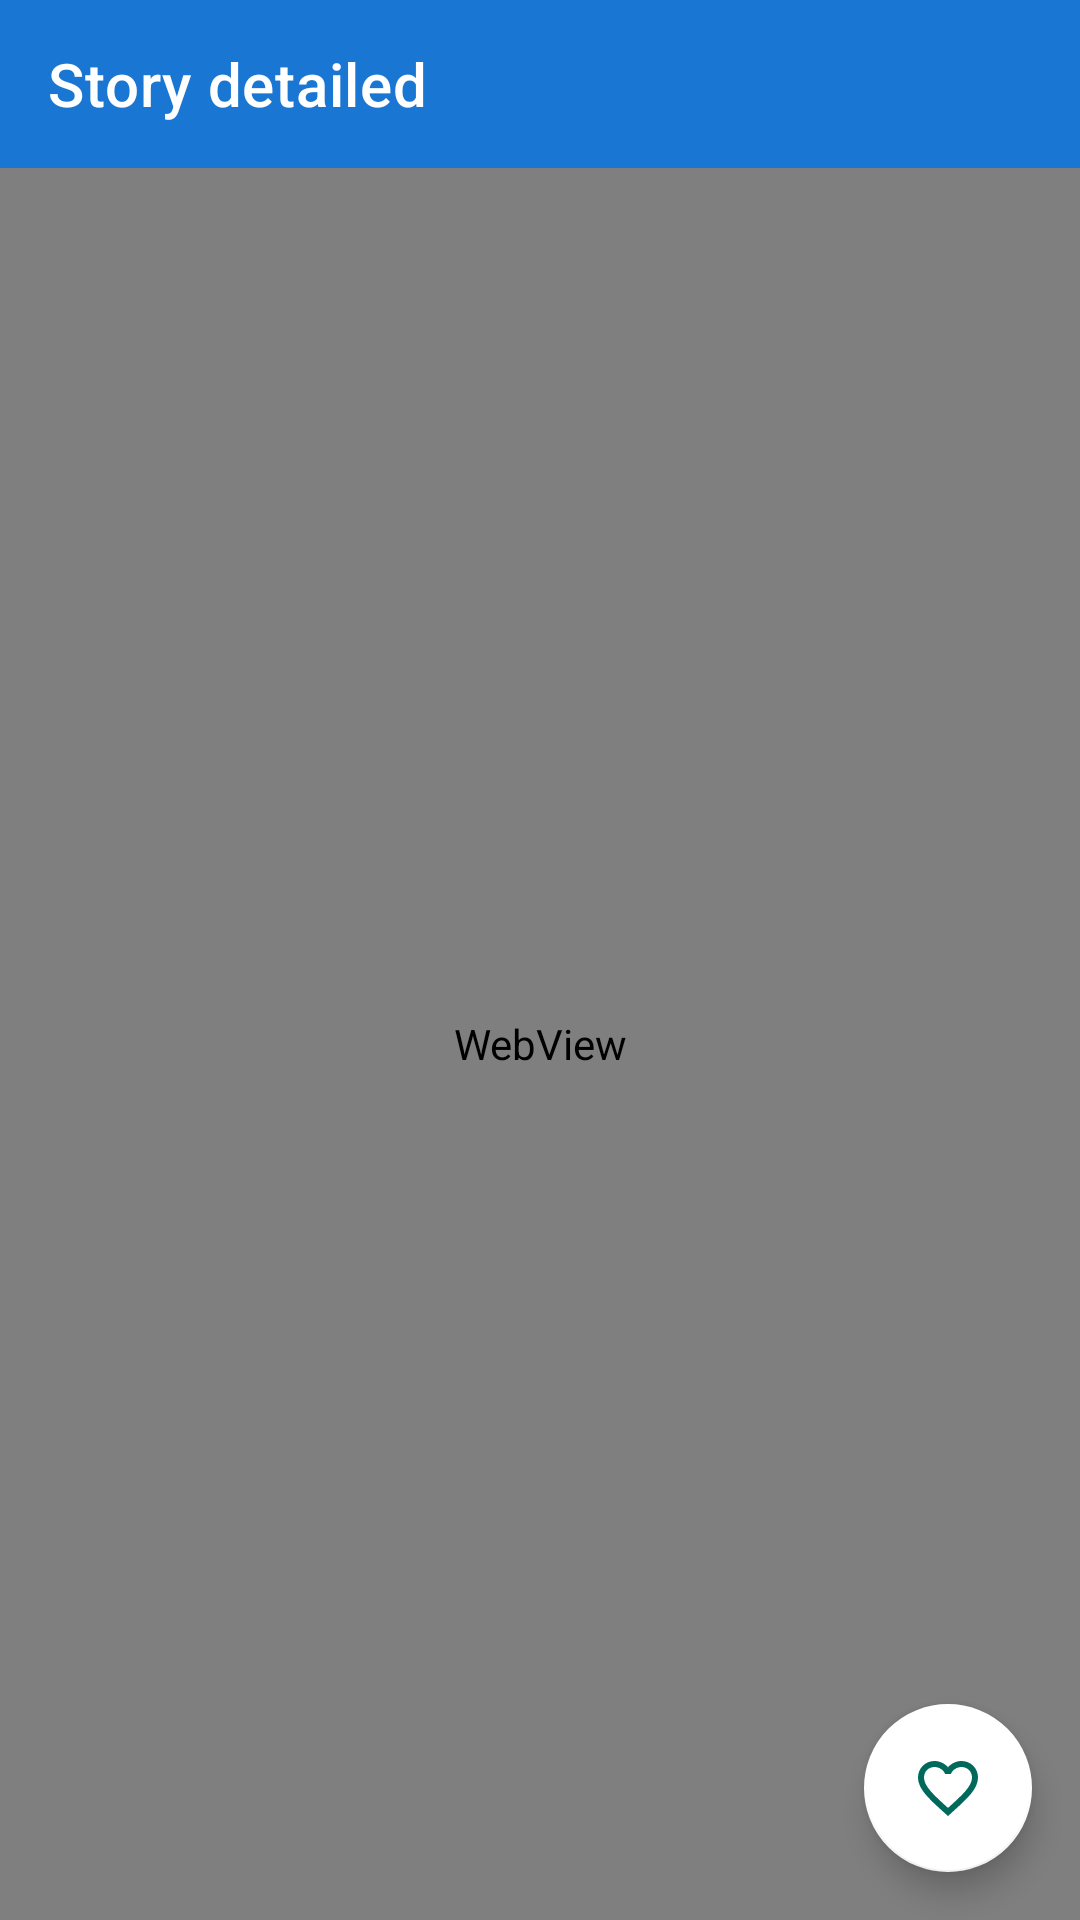

Point at icon controls on the screen. Image size 1080 × 1920, points as [x,y].
Save as Favourite: [948,1788]
